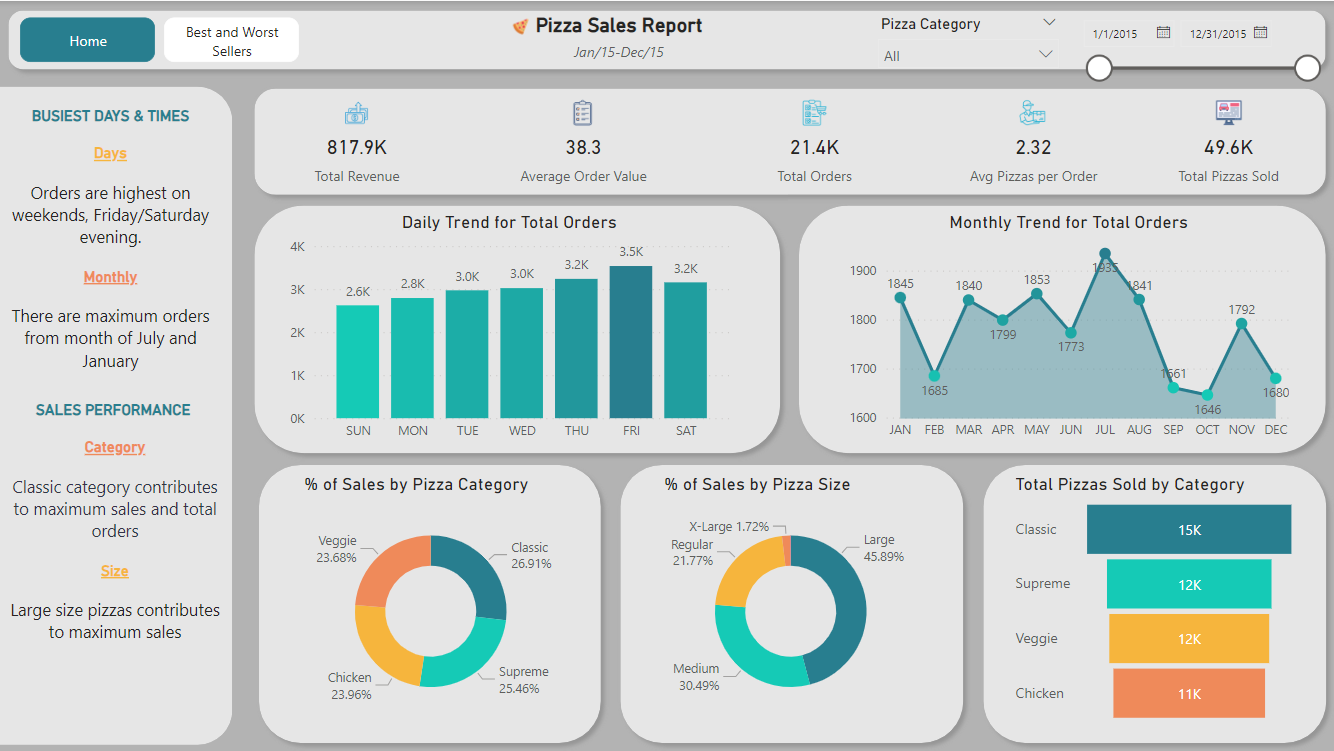

Layout of this report page (visuals, bound fields, positions):
{"tool":"powerbi","page":{"name":"Home","canvas":[1280,720],"ordinal":0},"visuals":[{"type":"shape","box":[0,81.8,223.6,630.9],"z":0},{"type":"shape","box":[0,0,1280,74.5],"z":1000},{"type":"shape","box":[235.5,187.3,521.8,255.5],"z":2000},{"type":"shape","box":[235.5,74.5,1044.5,120],"z":3000},{"type":"shape","box":[757.3,187.3,522.7,255.5],"z":4000},{"type":"shape","box":[933.5,435.3,346.5,284.4],"z":5000},{"type":"shape","box":[587,435.3,346.5,284.4],"z":6000},{"type":"shape","box":[239.6,435.3,345.6,284.4],"z":7000},{"type":"textbox","title":"Pizza Sales Report","box":[444.5,11.8,300,50],"z":8000},{"type":"image","box":[482.7,11.8,34.5,25.5],"z":9000},{"type":"card","fields":{"Values":["pizza_sales.Total Revenue"]},"box":[265.5,110.9,153.6,76.4],"z":10000},{"type":"card","fields":{"Values":["pizza_sales.Total Pizzas Sold"]},"box":[1100.9,110.9,153.6,76.4],"z":11000},{"type":"card","fields":{"Values":["pizza_sales.Total Orders"]},"box":[704.5,110.9,153.6,76.4],"z":12000},{"type":"card","fields":{"Values":["pizza_sales.Average Pizzas per Order"]},"box":[913.6,110.9,153.6,76.4],"z":13000},{"type":"card","fields":{"Values":["pizza_sales.Average Order Value"]},"box":[482.7,110.9,153.6,76.4],"z":14000},{"type":"image","box":[321.8,89.1,41.8,35.5],"z":15000},{"type":"image","box":[760,89.1,42.7,35.5],"z":16000},{"type":"image","box":[533.6,89.1,51.8,35.5],"z":17000},{"type":"image","box":[969.1,89.1,42.7,35.5],"z":18000},{"type":"image","box":[1158.2,89.1,40,35.5],"z":19000},{"type":"columnChart","title":"Daily Trend for Total Orders","fields":{"Y":["pizza_sales.Total Orders"],"Category":["pizza_sales.Order Day"]},"box":[272.7,200.9,431.8,228.2],"z":20000},{"type":"areaChart","title":"Monthly Trend for Total Orders","fields":{"Category":["pizza_sales.Order Month"],"Y":["pizza_sales.Total Orders"]},"box":[809.4,201.7,431.8,227.6],"z":21000},{"type":"donutChart","title":"% of Sales by Pizza Category","fields":{"Category":["pizza_sales.pizza_category"],"Y":["pizza_sales.Total Revenue"]},"box":[287,452.5,251.7,243.9],"z":22000},{"type":"donutChart","title":"% of Sales by Pizza Size","fields":{"Y":["pizza_sales.Total Revenue"],"Category":["pizza_sales.pizza_size"]},"box":[631.8,452.5,251.7,243.9],"z":23000},{"type":"funnel","title":"Total Pizzas Sold by Category","fields":{"Category":["pizza_sales.pizza_category"],"Y":["pizza_sales.Total Pizzas Sold"]},"box":[968.8,452.5,279.3,243.9],"z":24000},{"type":"textbox","box":[0,95.5,213.6,264.5],"z":25000},{"type":"textbox","box":[4.5,376.4,213.6,274.5],"z":26000},{"type":"slicer","fields":{"Values":["pizza_sales.pizza_category"]},"box":[832.6,8.6,193.1,65.5],"z":27000},{"type":"slicer","fields":{"Values":["pizza_sales.order_date"]},"box":[1025.5,8.2,249.1,73.6],"z":28000},{"type":"pageNavigator","box":[20,15.5,129.1,42.7],"z":29000},{"type":"pageNavigator","box":[158.2,15.5,129.1,42.7],"z":30000}]}

Visuals, with their boxes in screenshot pixels (x1, y1, x2, y2), scaled from the page's 1280x720 canvas onto the 1334x751 screenshot:
shape: 0, 85, 233, 743
shape: 0, 0, 1333, 78
shape: 245, 195, 789, 462
shape: 245, 78, 1333, 203
shape: 789, 195, 1333, 462
shape: 973, 454, 1333, 750
shape: 612, 454, 973, 750
shape: 250, 454, 610, 750
"Pizza Sales Report" textbox: 463, 12, 776, 64
image: 503, 12, 539, 39
card - pizza_sales.Total Revenue: 277, 116, 437, 195
card - pizza_sales.Total Pizzas Sold: 1147, 116, 1307, 195
card - pizza_sales.Total Orders: 734, 116, 894, 195
card - pizza_sales.Average Pizzas per Order: 952, 116, 1112, 195
card - pizza_sales.Average Order Value: 503, 116, 663, 195
image: 335, 93, 379, 130
image: 792, 93, 837, 130
image: 556, 93, 610, 130
image: 1010, 93, 1054, 130
image: 1207, 93, 1249, 130
"Daily Trend for Total Orders" columnChart: 284, 210, 734, 448
"Monthly Trend for Total Orders" areaChart: 844, 210, 1294, 448
"% of Sales by Pizza Category" donutChart: 299, 472, 561, 726
"% of Sales by Pizza Size" donutChart: 658, 472, 921, 726
"Total Pizzas Sold by Category" funnel: 1010, 472, 1301, 726
textbox: 0, 100, 223, 376
textbox: 5, 393, 227, 679
slicer - pizza_sales.pizza_category: 868, 9, 1069, 77
slicer - pizza_sales.order_date: 1069, 9, 1328, 85
pageNavigator: 21, 16, 155, 61
pageNavigator: 165, 16, 299, 61
